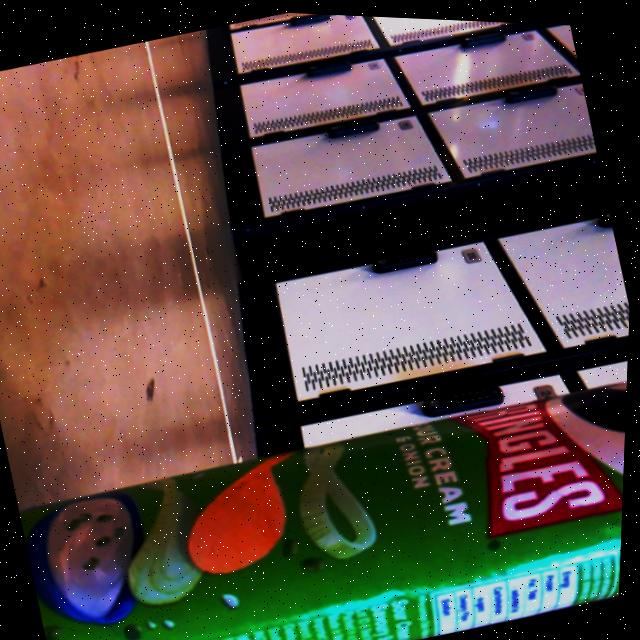greenpringles: (10, 322, 631, 640)
